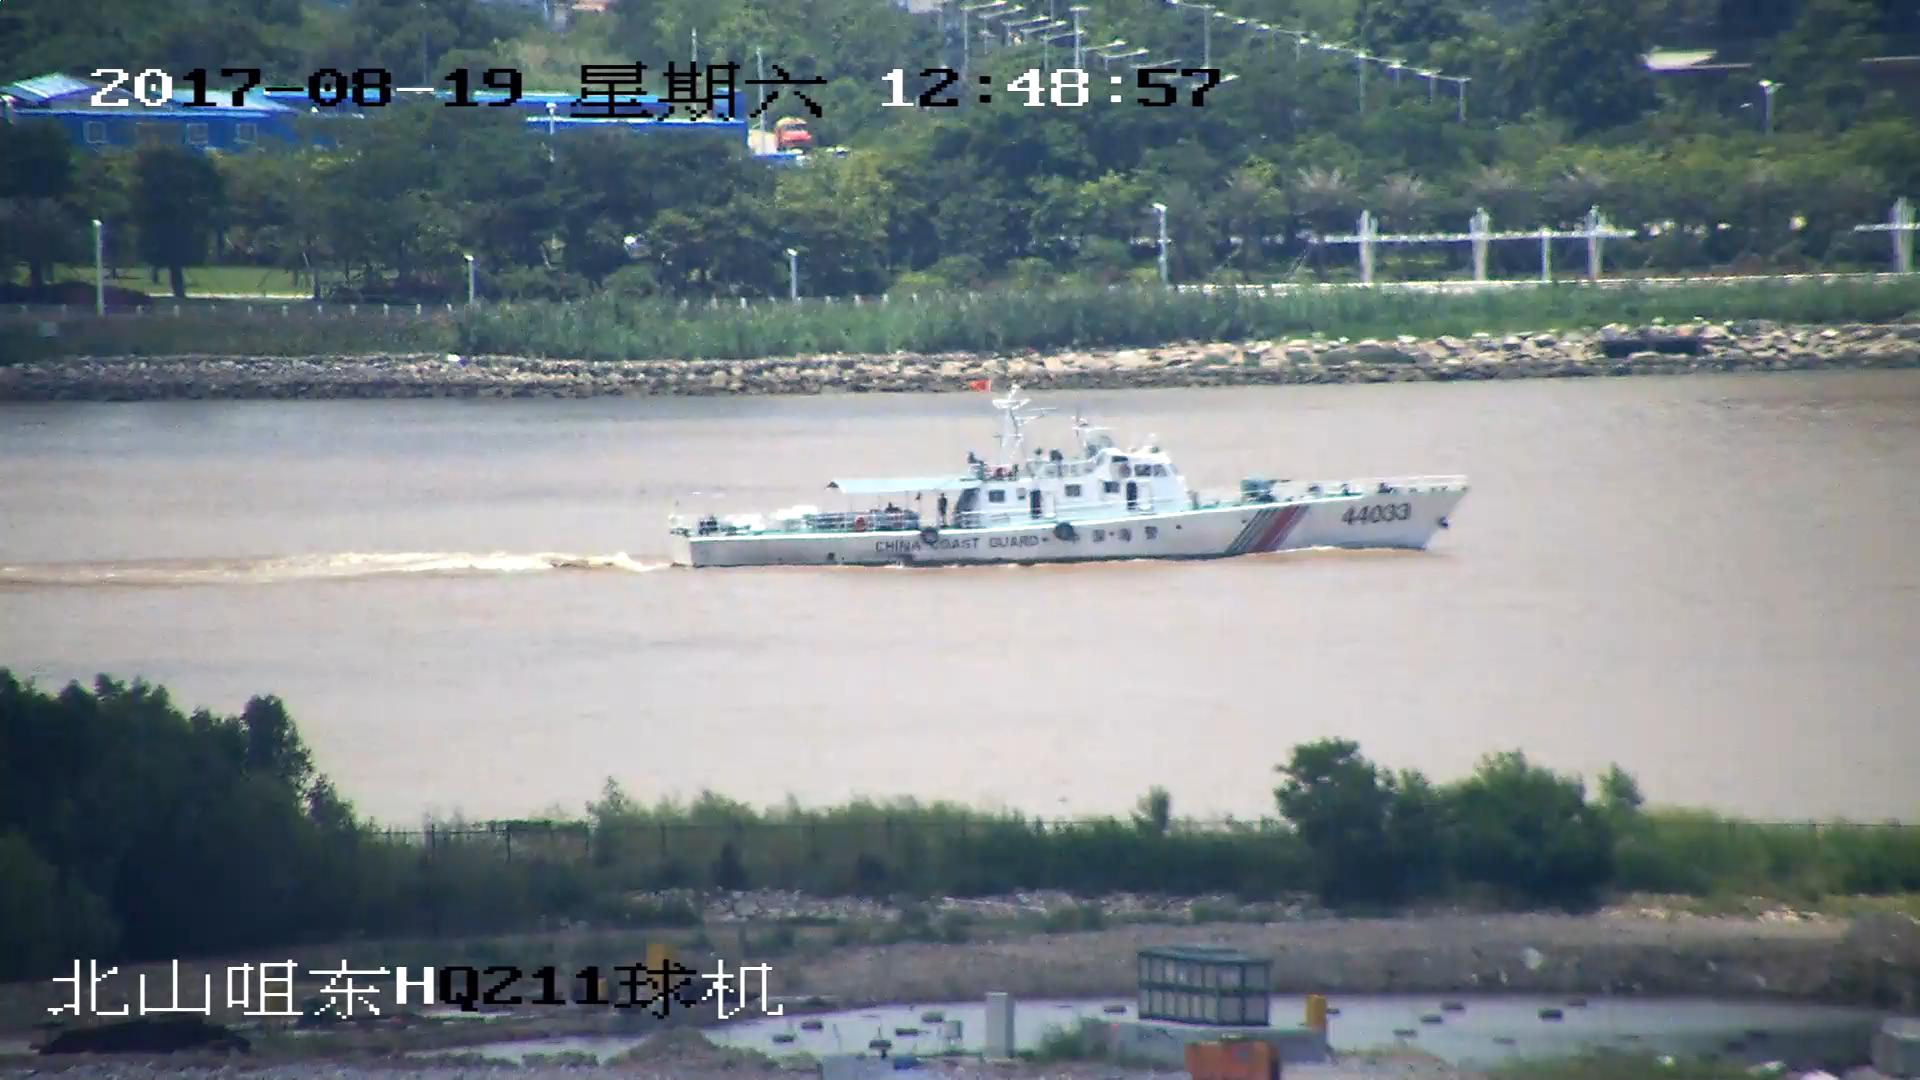passenger ship: (670, 388, 1466, 568)
